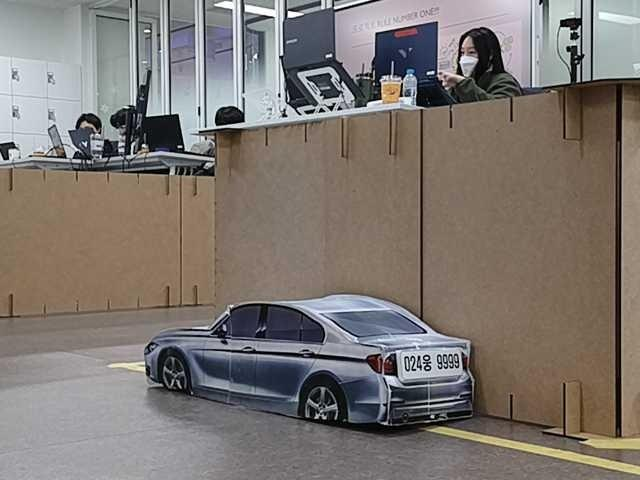car: (139, 294, 474, 427)
id: (396, 349, 464, 376)
